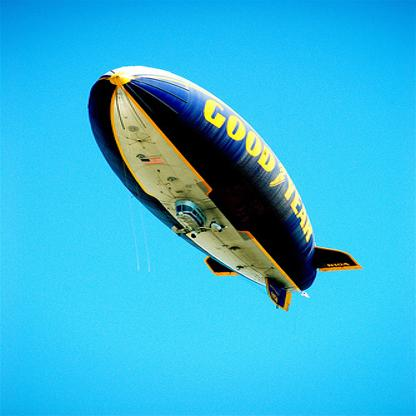Airship: (87, 64, 364, 314)
